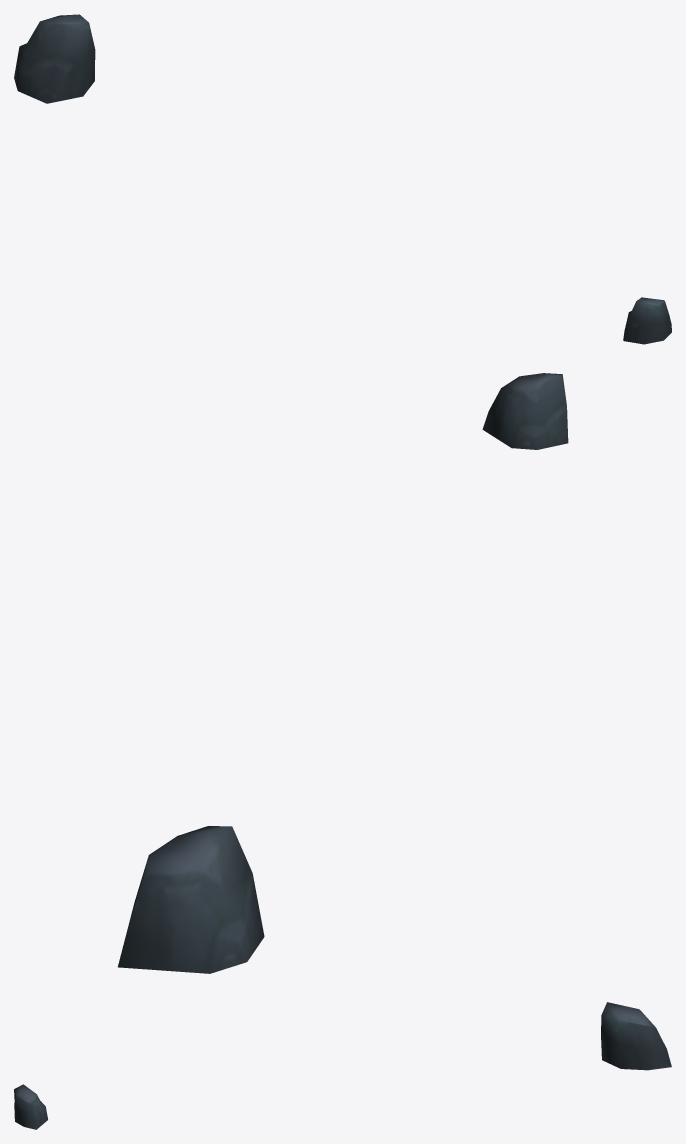
The model's file is shitou11.fbx.
The picture shows the model from 3 angles, top to bottom: view 1: azimuth 30°, elevation 25°; view 2: azimuth 150°, elevation 25°; view 3: azimuth 270°, elevation 25°; orthographic projection. The views are drawn at different scales.
Visible parts, largest first — view 1: shitou11; view 2: shitou11; view 3: shitou11.
Boxes of the visible parts, bbox=[...] form: shitou11: bbox=[14, 14, 671, 344]; shitou11: bbox=[118, 373, 568, 973]; shitou11: bbox=[14, 1002, 671, 1129].
Bounding box in the file's own units: 890 × 248 × 2796.
